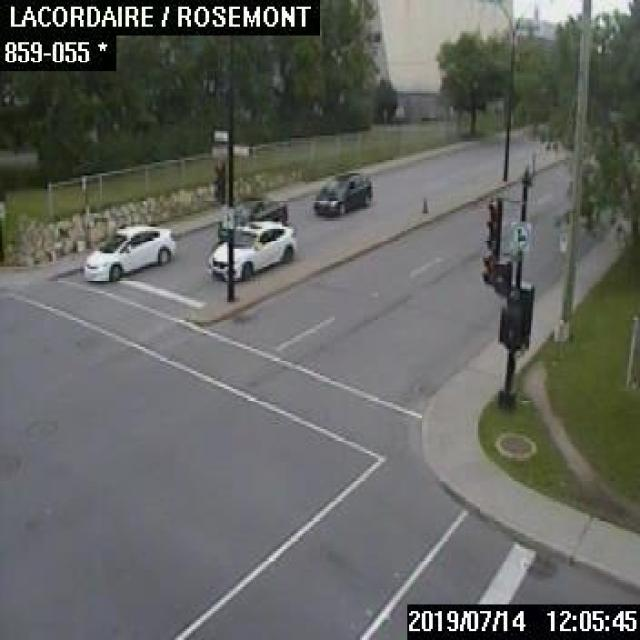vehicle: (207, 218, 296, 279), (83, 223, 175, 279), (217, 194, 286, 240), (312, 172, 371, 215)
